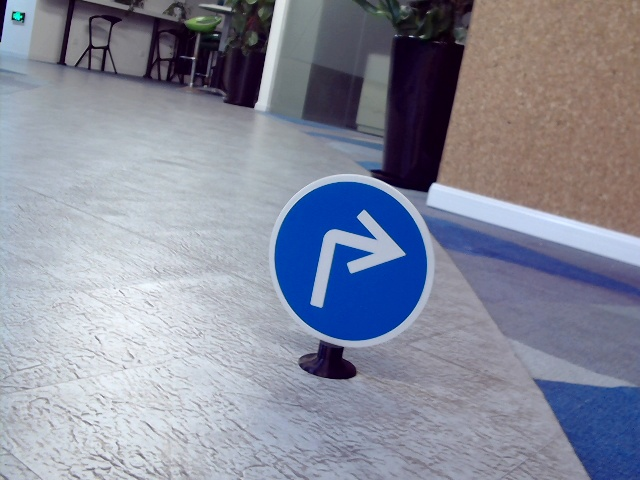turn_right: (304, 207, 404, 311)
